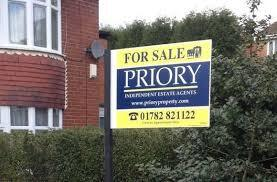property sign: (96, 36, 216, 137)
